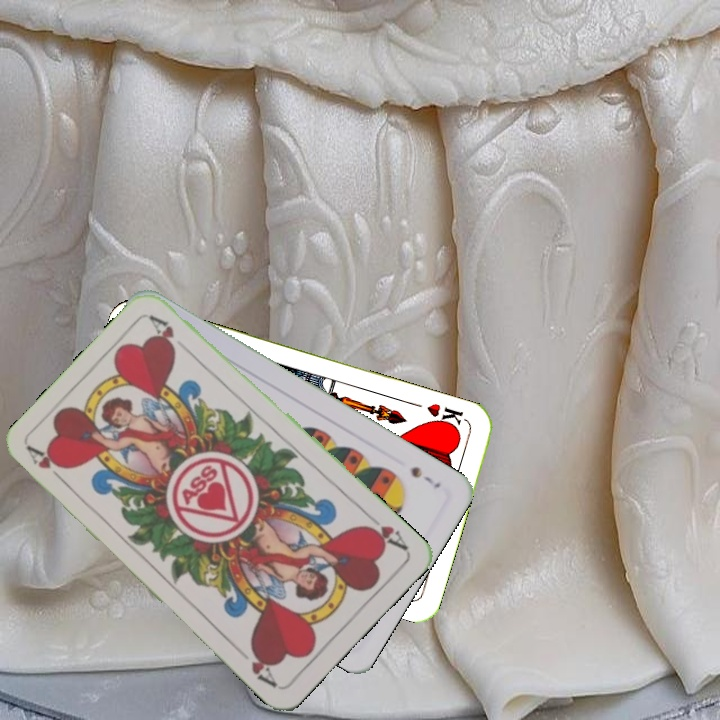HA: (23, 442, 71, 489), (360, 509, 411, 553)
HK: (423, 399, 469, 433)
S7: (406, 462, 443, 491)
